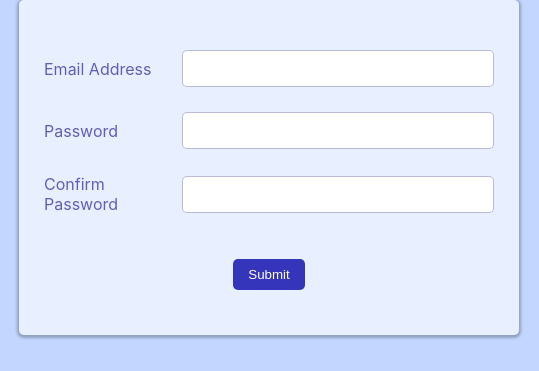
Test: Form › Error Handling › should show email error message on invalid email
The width and height of the screenshot is (539, 371).
Expected: the text "the email you input is invalid" is not shown
Type "wiugmail.com" into the field labelled "Email Address". click: x=338, y=68
box: [182,50,494,87]
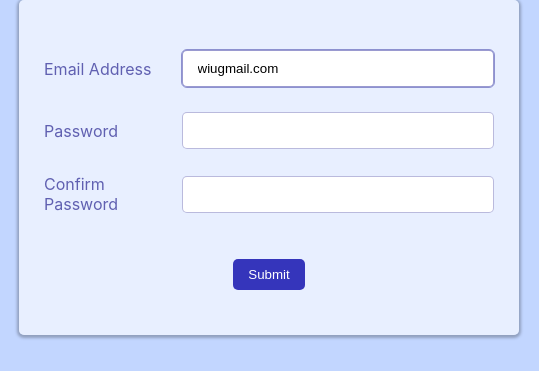
Click the button "Submit". click: x=269, y=274
box: [233,259,305,290]
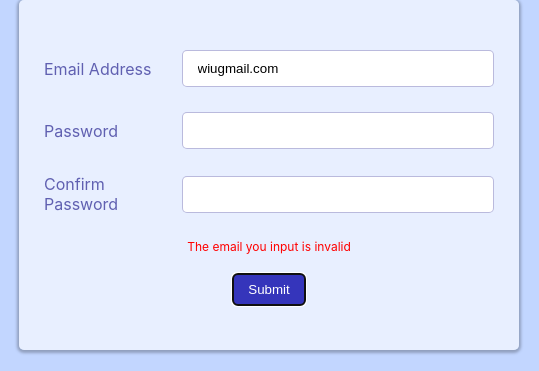
Expected: the text "The email you input is invalid" is shown, [187,239,351,254]
